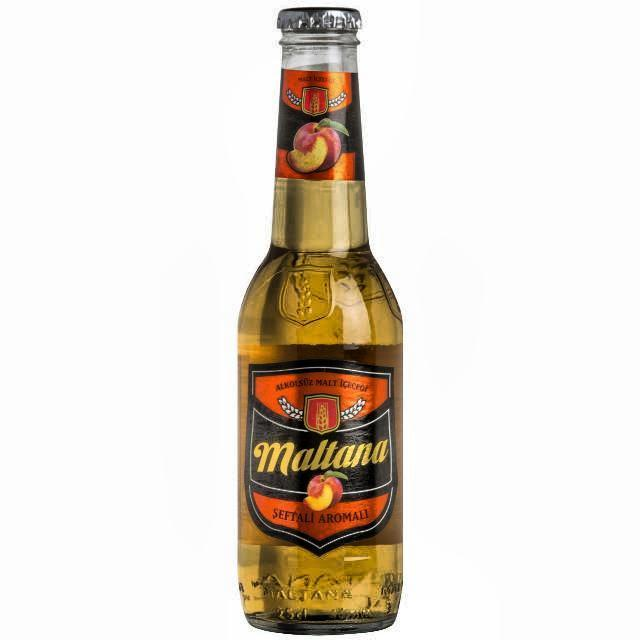glass: (236, 5, 406, 639)
